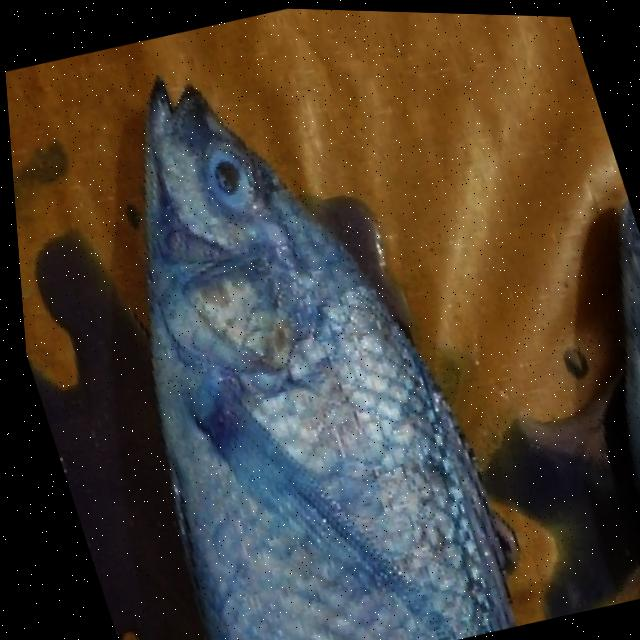Non-Fresh: (30, 32, 525, 640)
